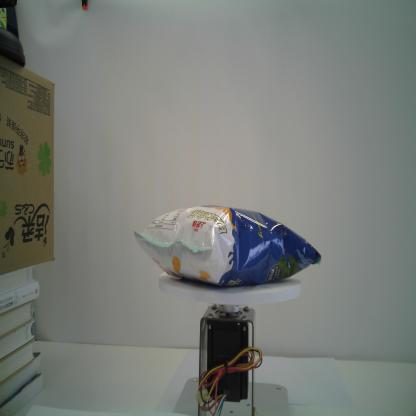Puffed Food: (132, 204, 322, 286)
